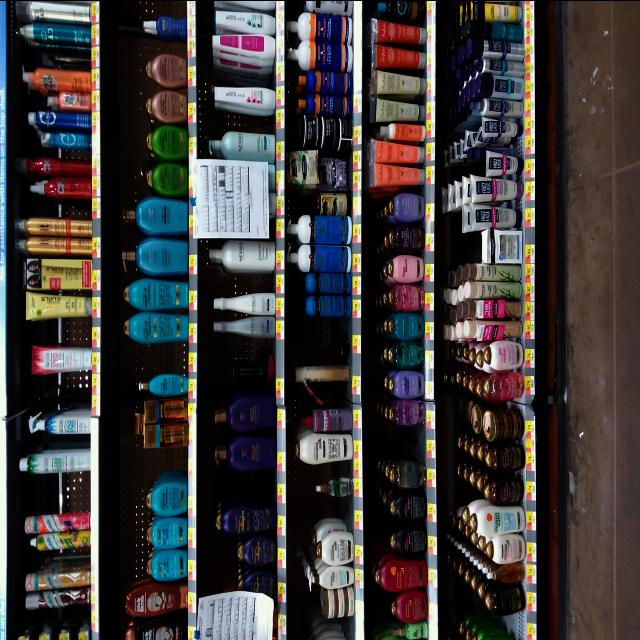empty_space: (28, 474, 84, 506), (131, 343, 187, 373), (32, 375, 87, 400), (127, 449, 181, 473), (299, 322, 341, 352), (34, 320, 84, 336), (383, 430, 421, 450)
